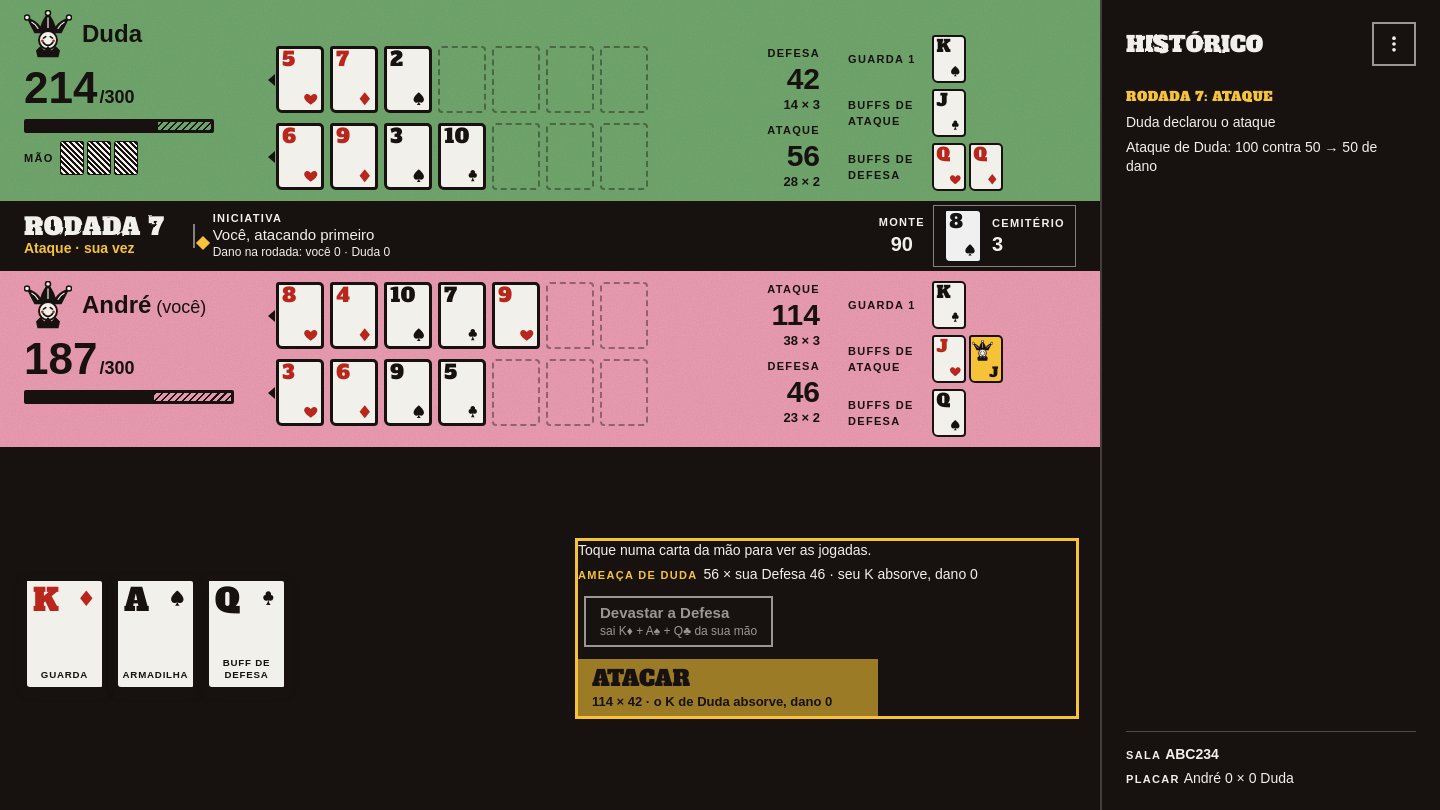
Test: efeitos da batida (spec §4.2) › pular mostra a vida nova na hora
Click the element that starts with "Duda" at [720, 405], box [0,0,1439,809]
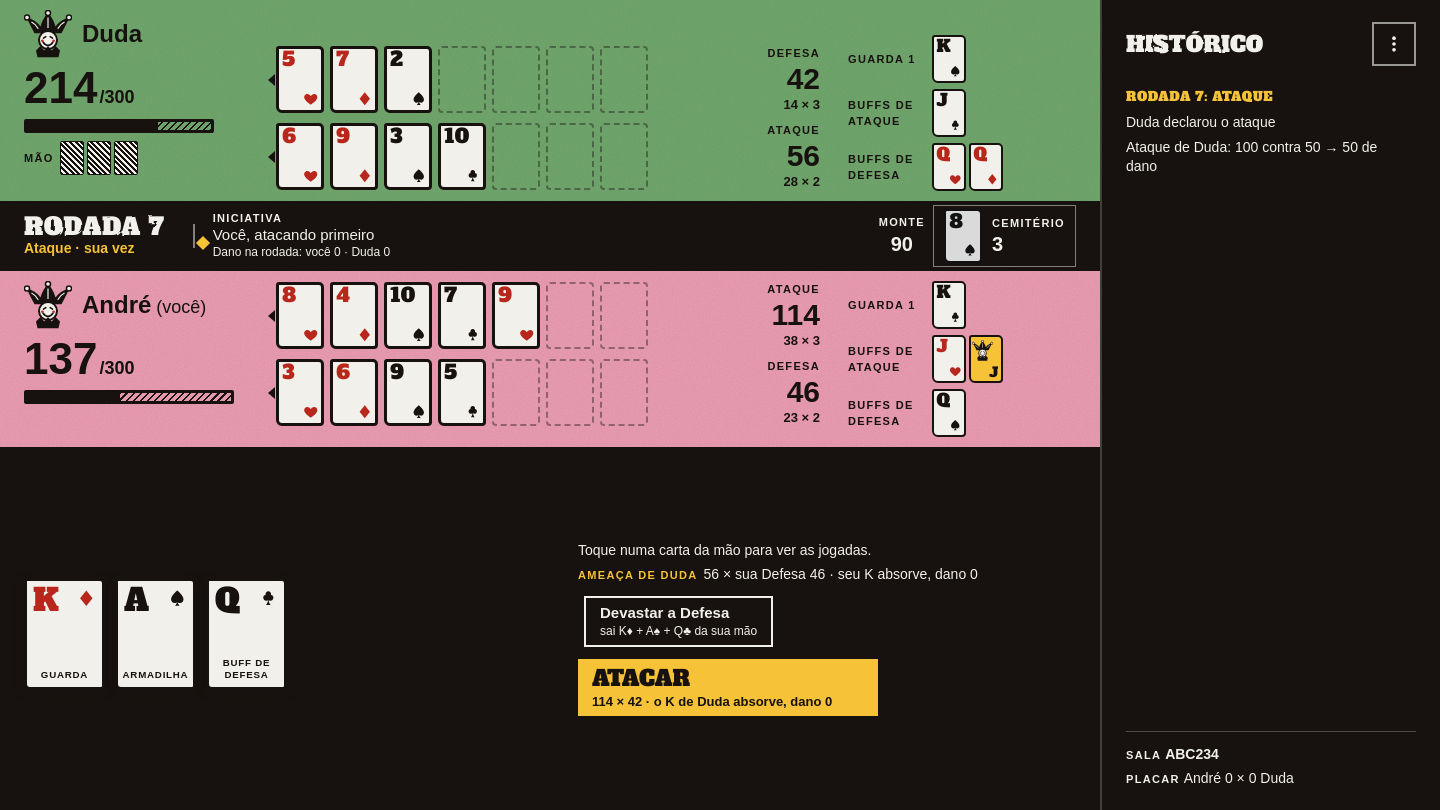
Result: the text "137" is shown at [24,337,97,381]
